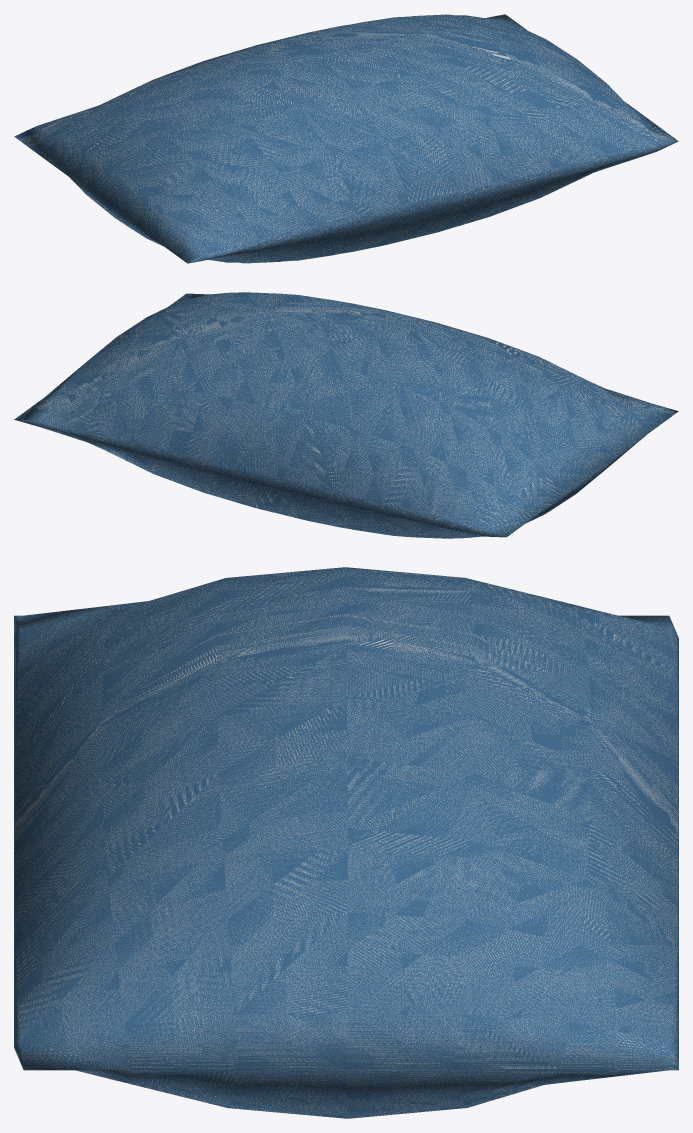
3 views of the same model, one above another, from view 1: azimuth 30°, elevation 25°; view 2: azimuth 150°, elevation 25°; view 3: azimuth 270°, elevation 25° (orthographic). The views are drawn at different scales.
Parts seen in each view (by area): view 1: mesh1_mesh1-geometry; view 2: mesh1_mesh1-geometry; view 3: mesh1_mesh1-geometry.
Part boxes in pixels (x1,y1,x2,y2): mesh1_mesh1-geometry: [14, 14, 678, 263]; mesh1_mesh1-geometry: [14, 292, 678, 538]; mesh1_mesh1-geometry: [14, 567, 678, 1118].
Size of the model in its own units: 0.8151 by 0.286 by 0.5038.
